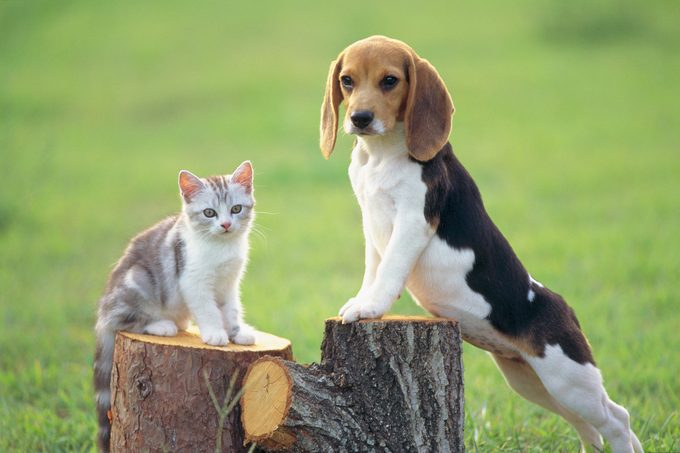Cat: (53, 154, 280, 453)
Dog: (307, 32, 657, 453)
